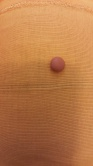Dolorex: (49, 56, 66, 73)
